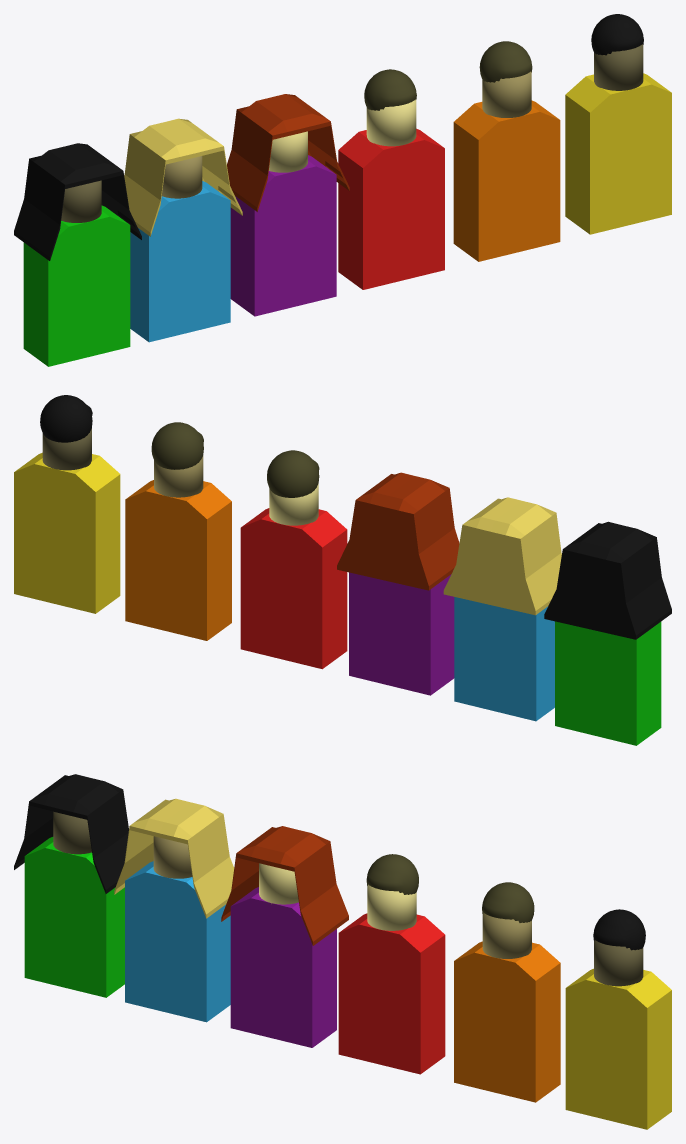
File: SwordBoxingAudience.fbx
3 renders of one model, top to bottom at view 1: azimuth 30°, elevation 25°; view 2: azimuth 150°, elevation 25°; view 3: azimuth 330°, elevation 25°, orthographic.
Parts seen in each view (by area): view 1: Cube.001, Cube.002, Cube, Cube.005, Cube.003, Cube.004, Plane.002, Plane, Plane.001, Cylinder, Cylinder.002, Cylinder.001 (+6 smaller); view 2: Cube.001, Cube.002, Cube, Cube.005, Cube.003, Plane.002, Plane, Cube.004, Plane.001, Sphere.002, Sphere.001, Sphere (+3 smaller); view 3: Cube, Cube.002, Cube.001, Cube.003, Cube.004, Cube.005, Plane, Plane.001, Plane.002, Cylinder, Cylinder.001, Cylinder.002 (+6 smaller).
Part boxes in pixels (left/top/right/bottom): Cube.001: left=453, top=100, right=560, bottom=261; Cube.002: left=565, top=73, right=671, bottom=234; Cube: left=338, top=128, right=444, bottom=289; Cube.005: left=23, top=205, right=130, bottom=366; Cube.003: left=230, top=155, right=336, bottom=316; Cube.004: left=130, top=181, right=230, bottom=342; Plane.002: left=14, top=143, right=141, bottom=260; Plane: left=227, top=94, right=349, bottom=211; Plane.001: left=124, top=118, right=242, bottom=236; Cylinder: left=366, top=99, right=416, bottom=146; Cylinder.002: left=594, top=44, right=643, bottom=90; Cylinder.001: left=482, top=71, right=531, bottom=117; Cube.001: left=125, top=480, right=231, bottom=640; Cube.002: left=14, top=452, right=120, bottom=613; Cube: left=240, top=508, right=347, bottom=669; Cube.005: left=555, top=621, right=661, bottom=745; Cube.003: left=349, top=572, right=454, bottom=695; Plane.002: left=544, top=521, right=671, bottom=639; Plane: left=337, top=472, right=459, bottom=590; Cube.004: left=454, top=597, right=554, bottom=721; Plane.001: left=443, top=497, right=561, bottom=615; Sphere.002: left=40, top=395, right=92, bottom=442; Sphere.001: left=151, top=422, right=203, bottom=469; Sphere: left=267, top=450, right=319, bottom=497; Cube: left=338, top=913, right=445, bottom=1074; Cube.002: left=565, top=968, right=671, bottom=1129; Cube.001: left=454, top=941, right=560, bottom=1102; Cube.003: left=230, top=887, right=336, bottom=1047; Cube.004: left=125, top=861, right=230, bottom=1022; Cube.005: left=24, top=837, right=124, bottom=997; Plane: left=221, top=826, right=348, bottom=945; Plane.001: left=114, top=798, right=234, bottom=918; Plane.002: left=14, top=774, right=128, bottom=893; Cylinder: left=367, top=884, right=416, bottom=930; Cylinder.001: left=482, top=912, right=531, bottom=958; Cylinder.002: left=594, top=940, right=643, bottom=986.
Size of the model in its own units: 1535 by 464 by 152.
